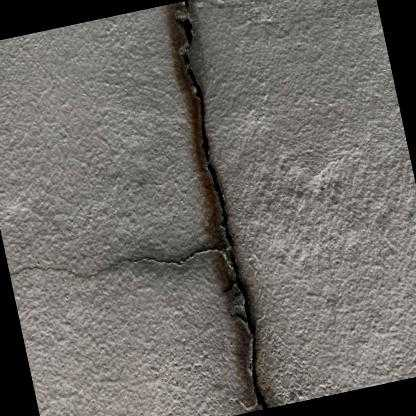crack: (9, 17, 269, 409), (185, 0, 188, 13)
